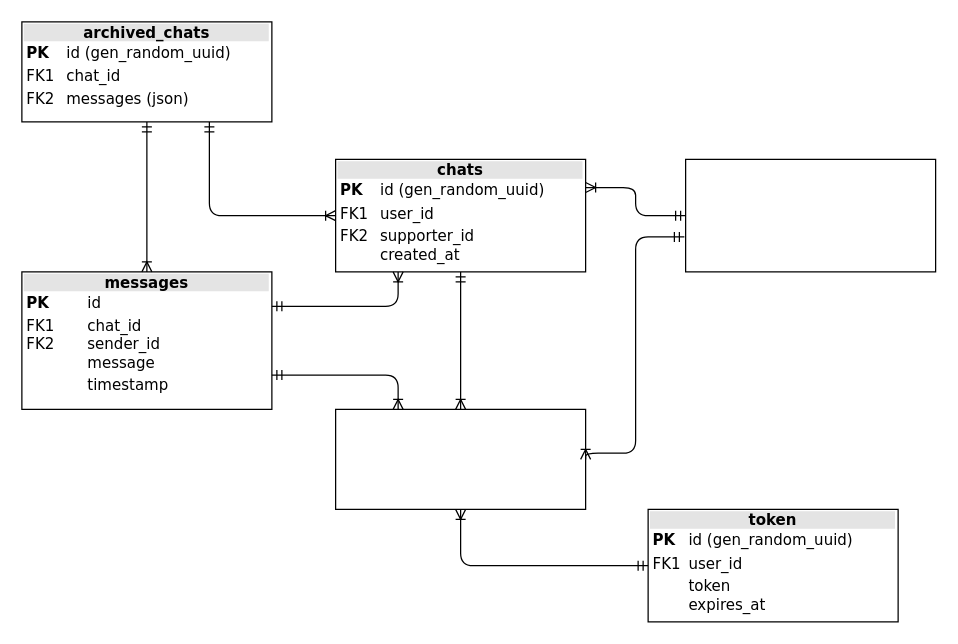
This 958x644 diagram has some shape labels left out. Each missing label, with the centre of its shape:
"active_chats PK id (gen_random_uuid) FK1 chat_id FK2 user_id assigned_at" goes at (810,215).
"users PK id (gen_random_uuid) username role (user | supporter)" goes at (460,458).
